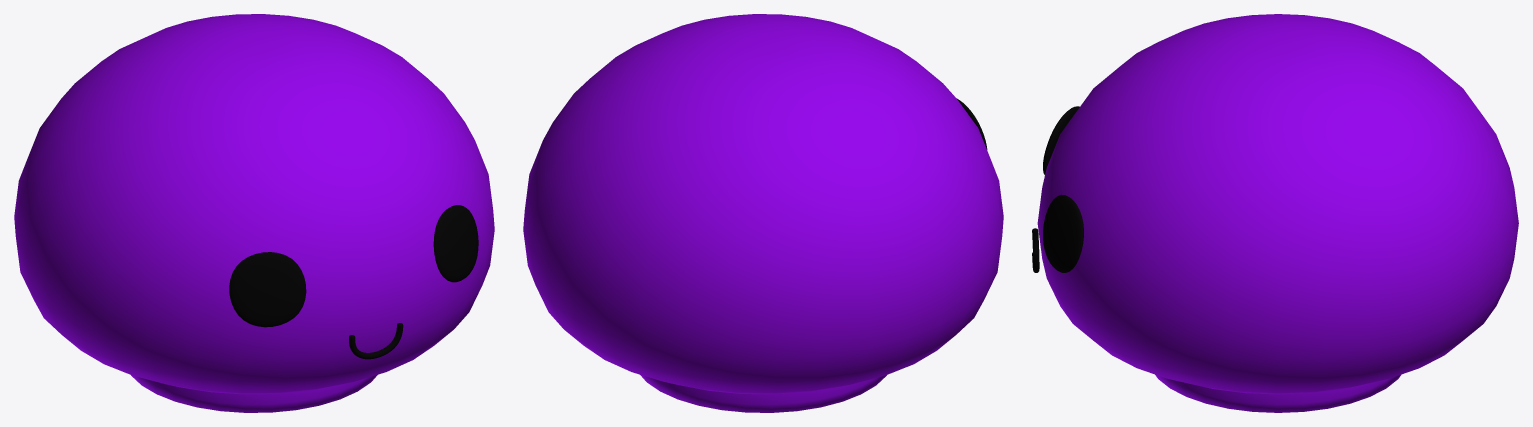
File: testaocto 1.fbx
The picture shows the model from 3 angles, left to right: view 1: azimuth 30°, elevation 25°; view 2: azimuth 150°, elevation 25°; view 3: azimuth 270°, elevation 25°; orthographic projection.
Parts seen in each view (by area): view 1: head, Eyes, Sphere.001, NurbsPath; view 2: head, Sphere.001; view 3: head, Sphere.001, Eyes.
Boxes of the visible parts, x1,y1,x2,y2 form: head: (14,14,494,394); Eyes: (229,205,478,327); Sphere.001: (131,374,377,412); NurbsPath: (349,323,403,359); head: (523,14,1003,394); Sphere.001: (640,374,886,412); head: (1037,14,1518,394); Sphere.001: (1155,374,1400,412); Eyes: (1043,106,1083,272).
Bounding box in the file's own units: 200 × 145 × 202.
